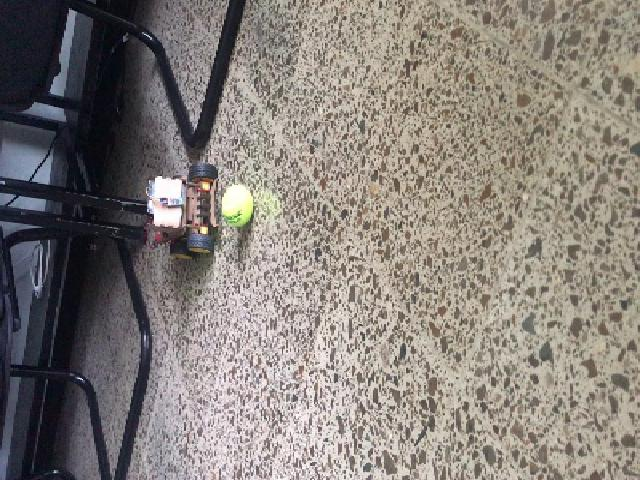Ball: (219, 182, 254, 227)
Robot: (144, 164, 218, 260)
